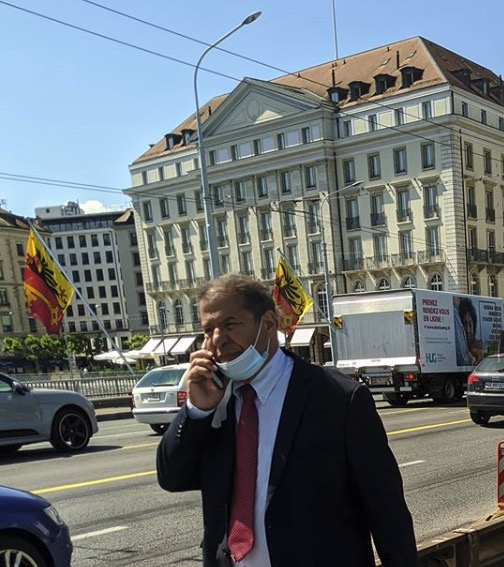mask_weared_incorrect: (200, 305, 270, 374)
